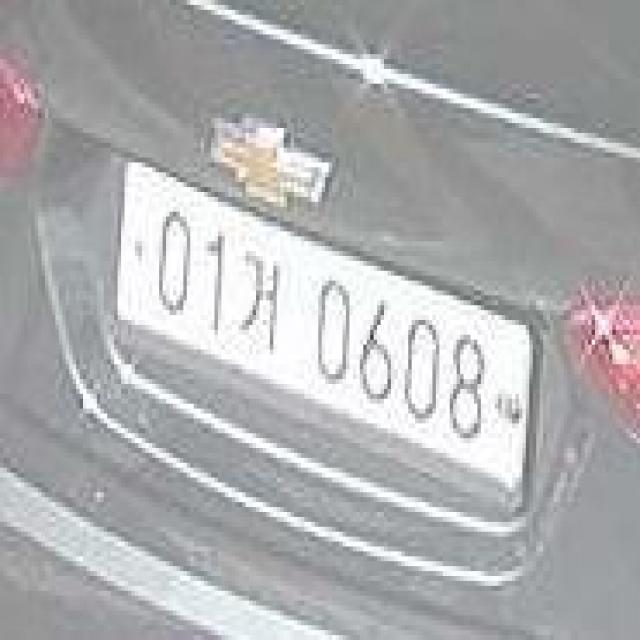illegal_plate: (104, 157, 541, 515)
